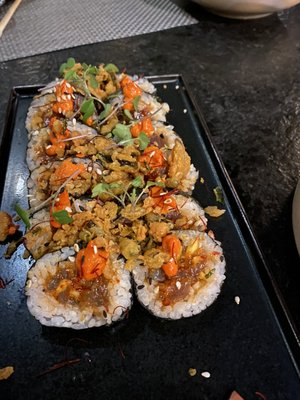curry: (1, 0, 300, 346)
sandwich: (16, 65, 226, 329)
